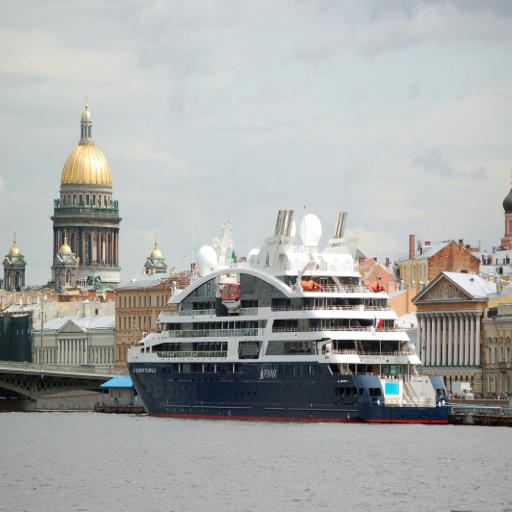cruises: (127, 207, 457, 435)
